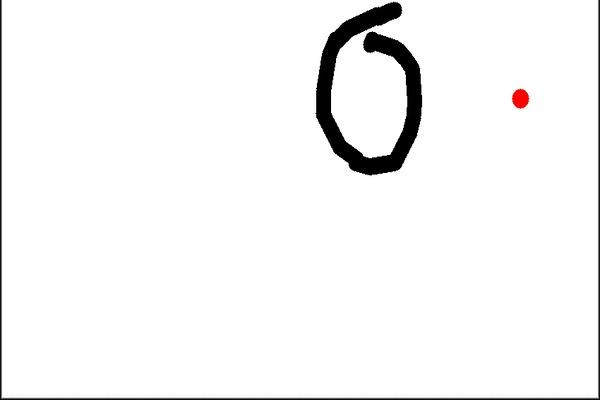O: (295, 5, 433, 183)
